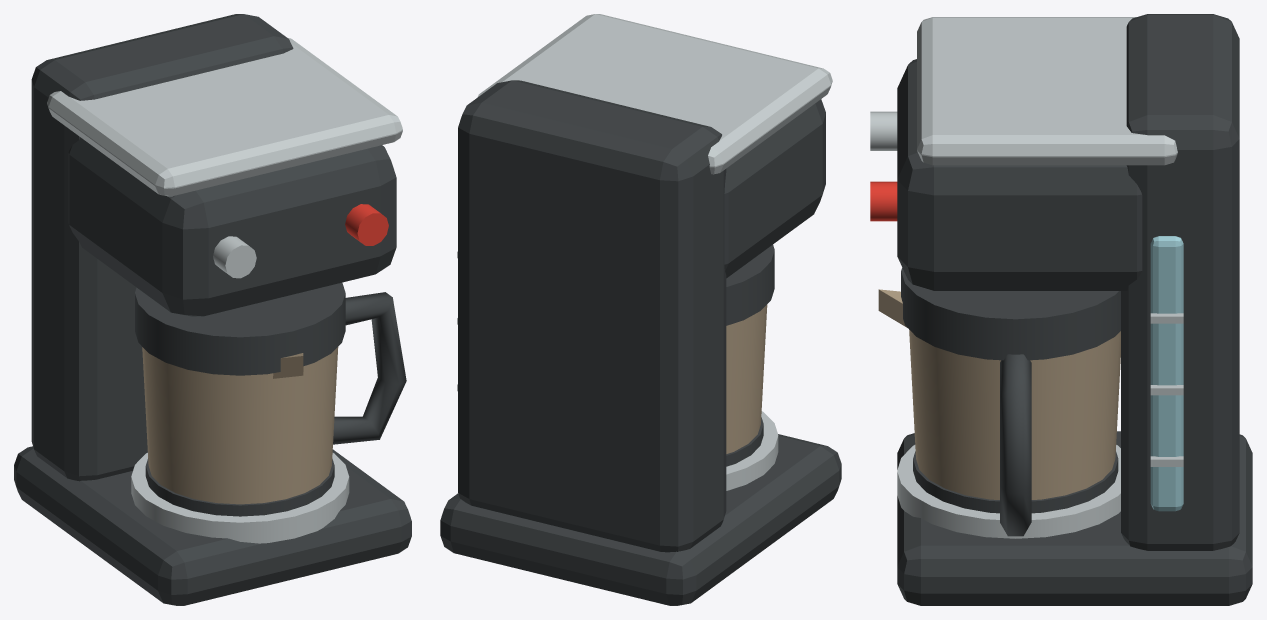
The model's file is coffee_machine.glb.
The picture shows the model from 3 angles, left to right: view 1: azimuth 30°, elevation 25°; view 2: azimuth 150°, elevation 25°; view 3: azimuth 270°, elevation 25°; orthographic projection. The views are drawn at different scales.
Parts seen in each view (by area): view 1: Coffee maker rear reservoir, Coffee maker upper filter housing, Coffee maker top filter lid, Coffee maker base, Coffee carafe body, Coffee carafe lid, Coffee maker hotplate, Coffee carafe attached handle, Coffee carafe lower trim, Coffee maker front button, Coffee maker front button.001, Coffee carafe pouring lip; view 2: Coffee maker rear reservoir, Coffee maker base, Coffee maker top filter lid, Coffee maker upper filter housing, Coffee carafe body, Coffee carafe lid, Coffee maker hotplate, Coffee carafe lower trim; view 3: Coffee maker rear reservoir, Coffee maker top filter lid, Coffee maker upper filter housing, Coffee maker base, Coffee carafe body, Coffee carafe lid, Coffee reservoir side level strip, Coffee maker hotplate, Coffee carafe attached handle, Coffee carafe lower trim, Coffee maker front button.001, Coffee maker front button (+1 smaller).
Boxes of the visible parts, x1,y1,x2,y2 form: Coffee maker rear reservoir: (31, 14, 293, 481); Coffee maker upper filter housing: (68, 137, 396, 316); Coffee maker top filter lid: (47, 38, 402, 196); Coffee maker base: (14, 446, 411, 605); Coffee carafe body: (142, 347, 338, 504); Coffee carafe lid: (135, 282, 345, 375); Coffee maker hotplate: (131, 452, 349, 543); Coffee carafe attached handle: (333, 292, 406, 444); Coffee carafe lower trim: (145, 458, 334, 516); Coffee maker front button: (213, 236, 256, 278); Coffee maker front button.001: (345, 204, 388, 245); Coffee carafe pouring lip: (273, 353, 303, 378); Coffee maker rear reservoir: (458, 80, 726, 552); Coffee maker base: (440, 434, 841, 605); Coffee maker top filter lid: (477, 14, 832, 174); Coffee maker upper filter housing: (724, 99, 825, 278); Coffee carafe body: (726, 304, 767, 453); Coffee carafe lid: (726, 244, 774, 325); Coffee maker hotplate: (726, 411, 778, 490); Coffee carafe lower trim: (726, 417, 763, 466); Coffee maker rear reservoir: (1121, 14, 1239, 550); Coffee maker top filter lid: (917, 17, 1177, 165); Coffee maker upper filter housing: (897, 59, 1142, 290); Coffee maker base: (897, 431, 1252, 605); Coffee carafe body: (909, 329, 1120, 499); Coffee carafe lid: (901, 268, 1120, 360); Coffee reservoir side level strip: (1150, 236, 1183, 511); Coffee maker hotplate: (897, 445, 1120, 538); Coffee carafe attached handle: (1000, 354, 1031, 536); Coffee carafe lower trim: (913, 451, 1118, 513); Coffee maker front button.001: (870, 181, 897, 221); Coffee maker front button: (870, 111, 897, 150).
Size of the model in its own units: 0.2753 by 0.405 by 0.2905.
